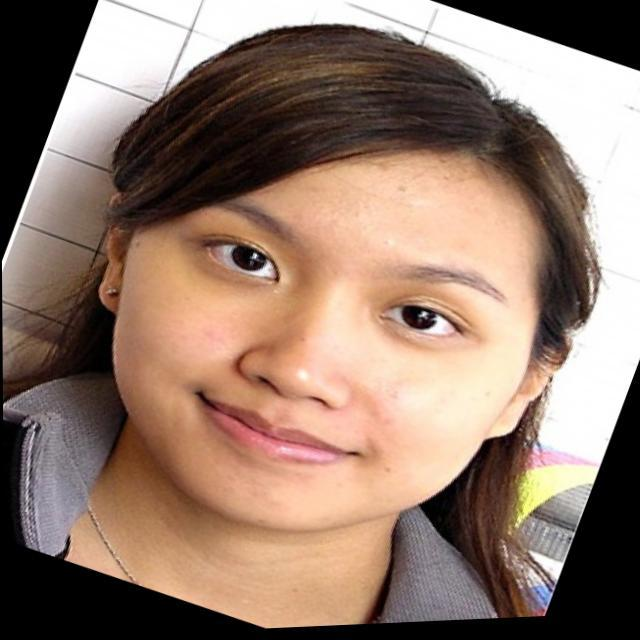Nonhelmet: (37, 19, 605, 615)
